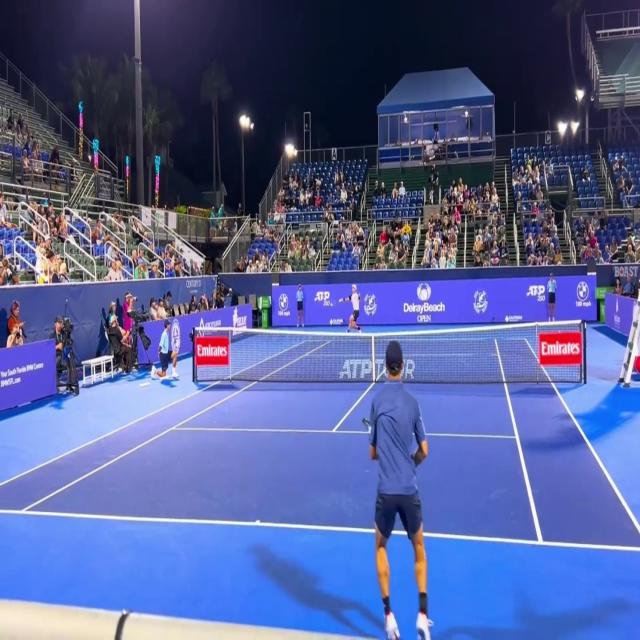tennisBall: (329, 300, 334, 310)
